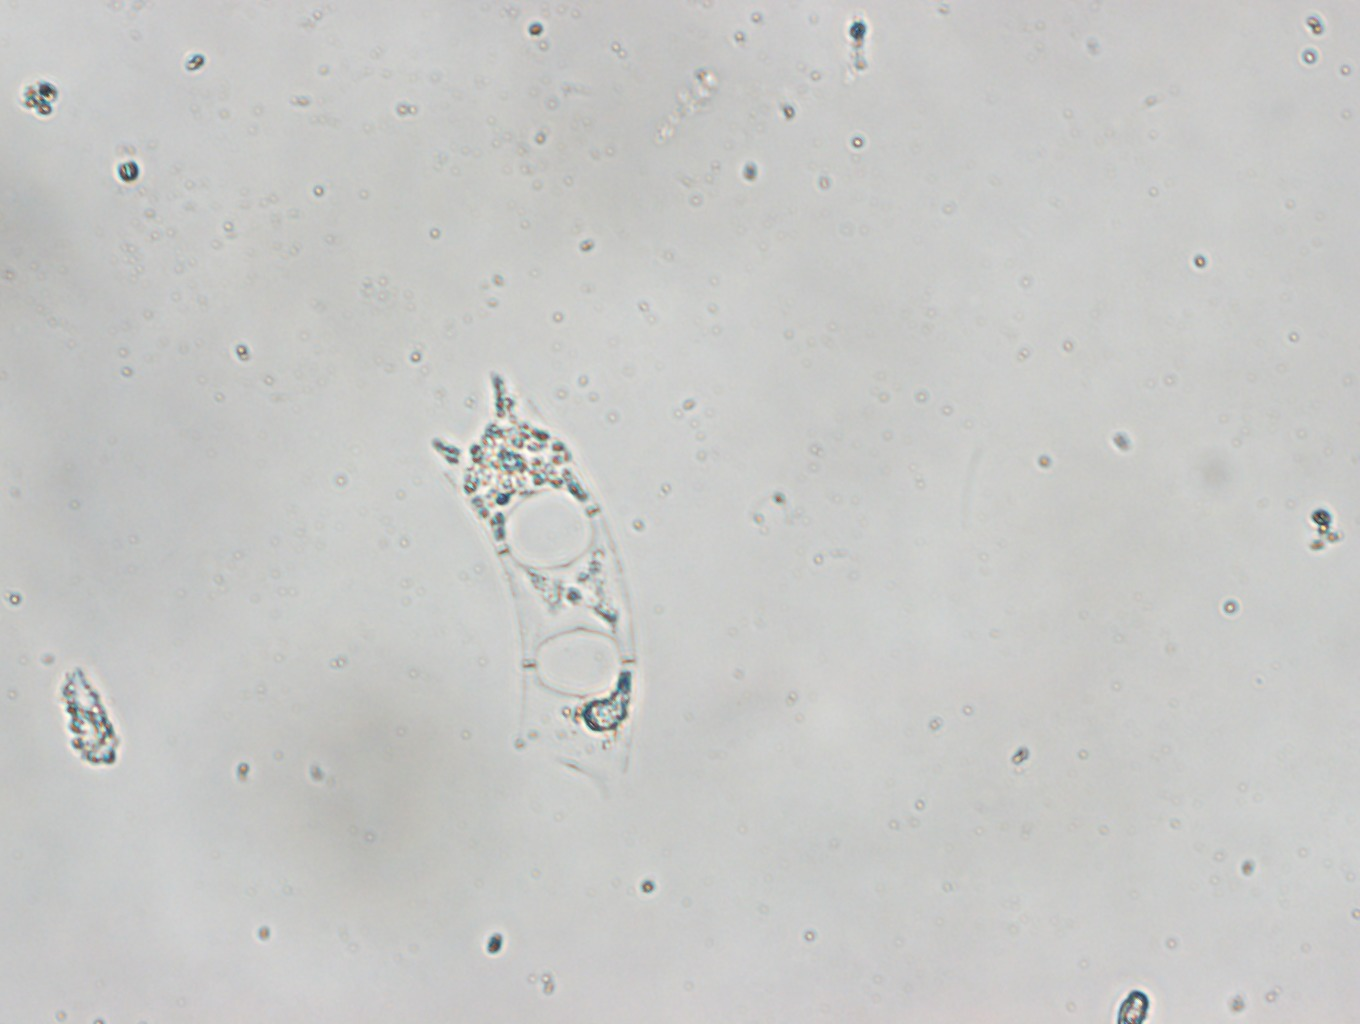eucampia: (425, 374, 652, 815)
